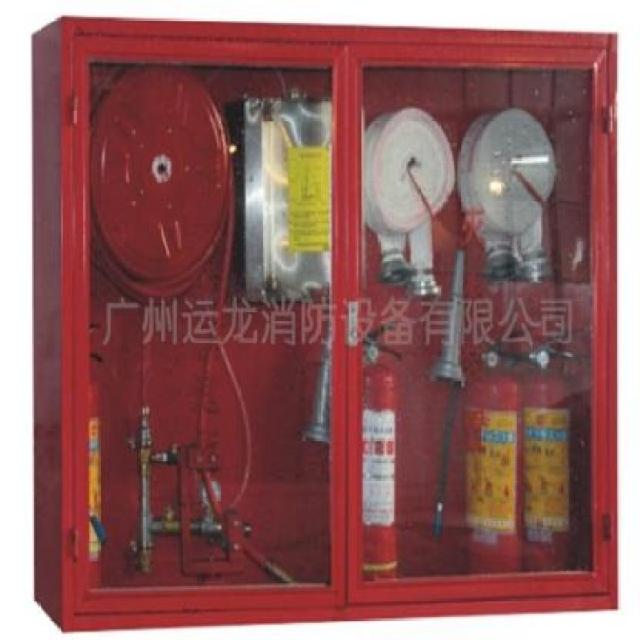firehydrant: (29, 9, 348, 638), (346, 6, 625, 627)
